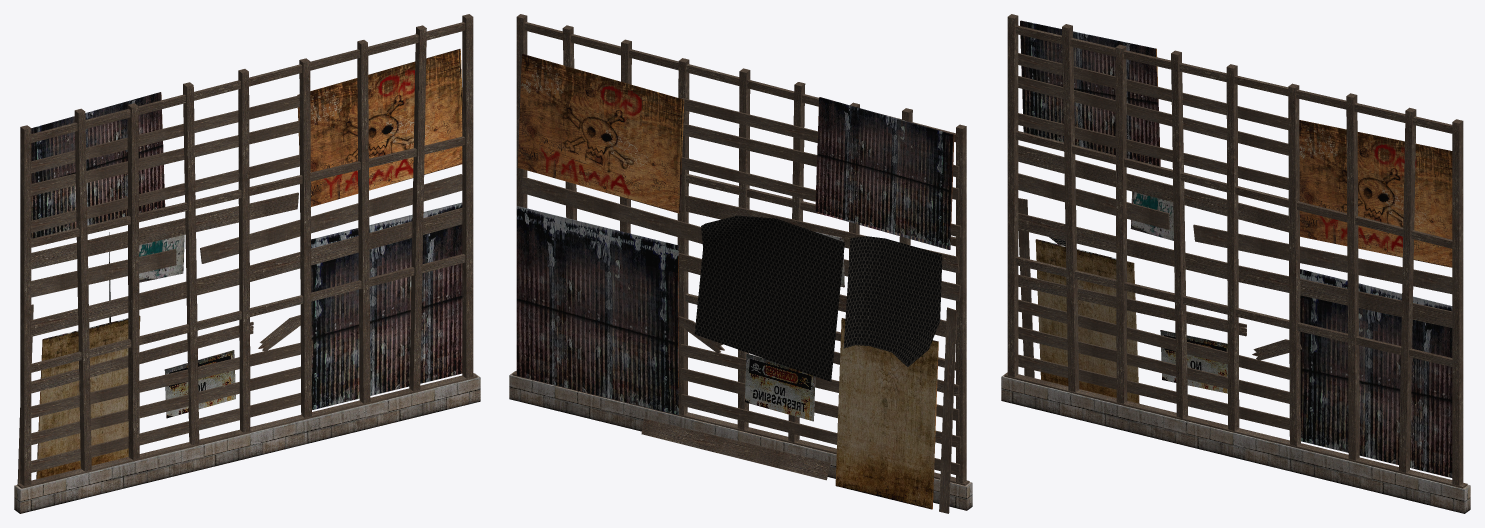
Rendered from tunnel_barrier_var2.fbx.
3 renders of one model, left to right at view 1: azimuth 30°, elevation 25°; view 2: azimuth 150°, elevation 25°; view 3: azimuth 330°, elevation 25°, orthographic.
Visible parts, largest first — view 1: mesh_3, mesh_4, mesh_0, mesh_5, mesh_2, mesh_25, mesh_6, mesh_8, mesh_16, mesh_9, mesh_13, mesh_7 (+20 smaller); view 2: mesh_3, mesh_35, mesh_4, mesh_5, mesh_2, mesh_34, mesh_0, mesh_6, mesh_28, mesh_19, mesh_17, mesh_11 (+17 smaller); view 3: mesh_3, mesh_4, mesh_0, mesh_5, mesh_2, mesh_25, mesh_8, mesh_6, mesh_14, mesh_9, mesh_7, mesh_13 (+20 smaller).
Boxes of the visible parts, box(x1,y1,x2,y2) form: mesh_3: box(311, 202, 462, 409); mesh_4: box(297, 49, 462, 206); mesh_0: box(14, 373, 480, 513); mesh_5: box(31, 92, 165, 238); mesh_2: box(36, 315, 140, 479); mesh_25: box(31, 208, 462, 336); mesh_6: box(20, 125, 31, 486); mesh_8: box(462, 14, 473, 378); mesh_16: box(409, 25, 426, 391); mesh_9: box(357, 40, 370, 403); mesh_13: box(74, 108, 91, 471); mesh_7: box(238, 69, 250, 432); mesh_3: box(516, 206, 678, 415); mesh_35: box(694, 215, 844, 381); mesh_4: box(517, 54, 684, 213); mesh_5: box(815, 97, 954, 249); mesh_2: box(835, 318, 938, 509); mesh_34: box(843, 236, 942, 366); mesh_0: box(509, 371, 972, 510); mesh_6: box(956, 124, 966, 483); mesh_28: box(745, 353, 815, 421); mesh_19: box(641, 418, 830, 480); mesh_17: box(521, 176, 702, 243); mesh_11: box(524, 22, 955, 142); mesh_3: box(1300, 269, 1452, 477); mesh_4: box(1299, 120, 1452, 267); mesh_0: box(1001, 372, 1470, 513); mesh_5: box(1020, 20, 1160, 166); mesh_2: box(1035, 239, 1139, 403); mesh_25: box(1018, 213, 1452, 327); mesh_8: box(1452, 119, 1463, 485); mesh_6: box(1007, 14, 1018, 377); mesh_14: box(1171, 50, 1187, 418); mesh_9: box(1346, 93, 1359, 460); mesh_7: box(1226, 64, 1239, 431); mesh_13: box(1062, 24, 1079, 391).
Size of the model in its own units: 1000 by 801 by 109.
2 materials, 2 textured.
